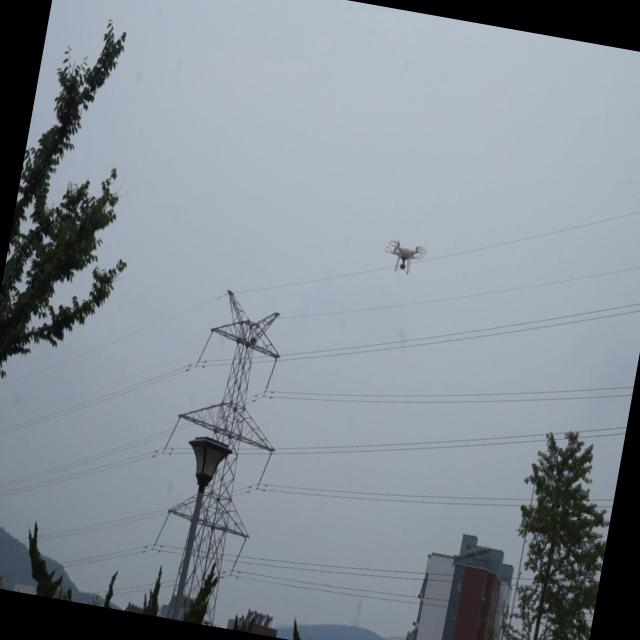drone: (379, 234, 428, 278)
